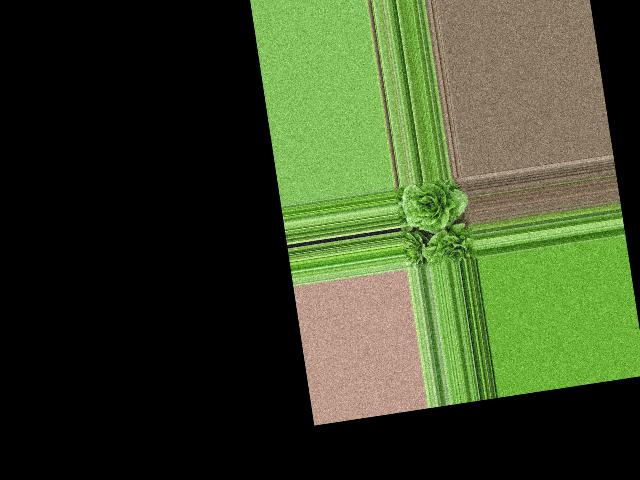lettuce: (419, 226, 476, 268)
